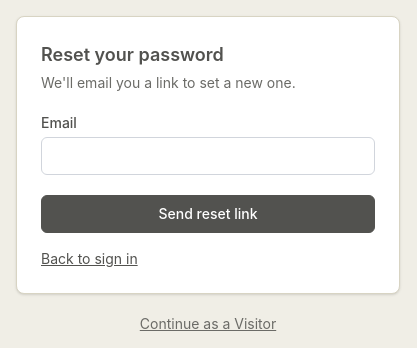
Test: PasswordResetRequestPage › disables the button while the request is in flight, so a double-click cannot double-submit
The image size is (417, 348).
Type "visitor@example.com" into the field labelled "Email".
click(208, 156); type("visitor@example.com")  # box [41,137,375,175]
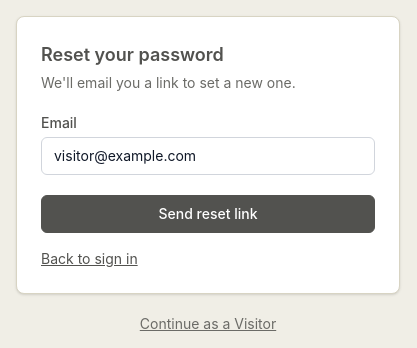
Click the button "Send reset link".
click(208, 214)  # box [41,195,375,233]
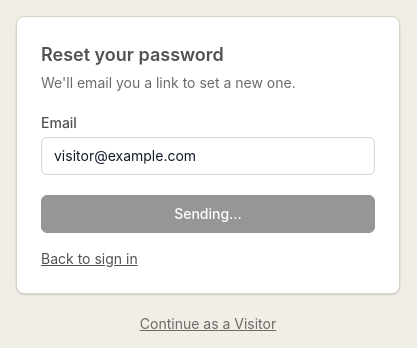
expect the button "Sending…" is disabled: met, box [41,195,375,233]
